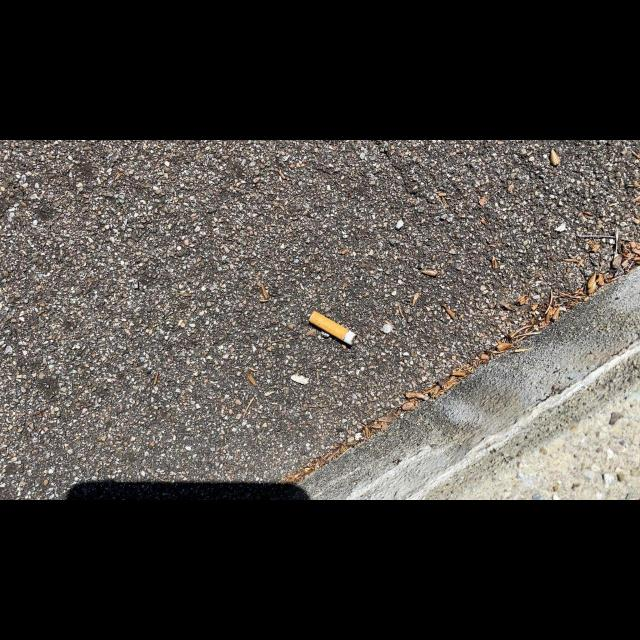cigarette: (309, 311, 358, 346)
